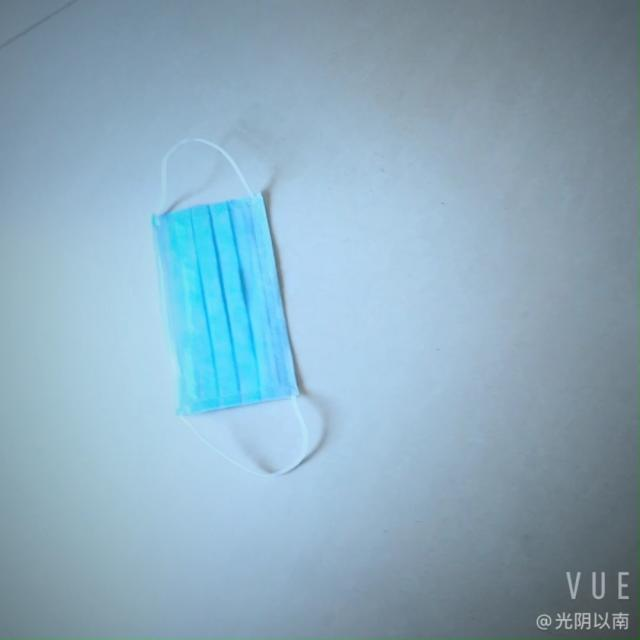non-organic waste: (168, 180, 322, 406)
